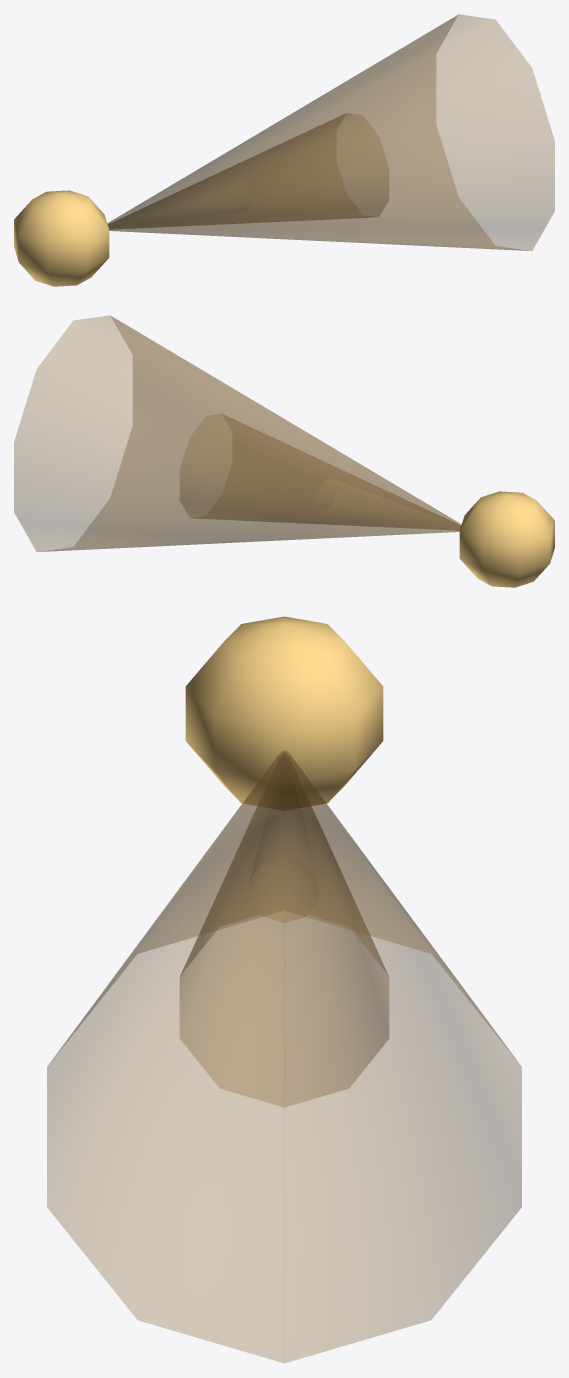
The model's file is rodfx-lighthouse.glb.
The picture shows the model from 3 angles, top to bottom: view 1: azimuth 30°, elevation 25°; view 2: azimuth 150°, elevation 25°; view 3: azimuth 270°, elevation 25°; orthographic projection. The views are drawn at different scales.
Parts seen in each view (by area): view 1: Beam, Lamp; view 2: Beam, Lamp; view 3: Beam, Lamp.
Part boxes in pixels (x1,y1,x2,y2): Beam: (107, 14, 554, 250); Lamp: (14, 190, 109, 286); Beam: (14, 315, 461, 551); Lamp: (459, 491, 554, 587); Beam: (47, 750, 521, 1363); Lamp: (185, 616, 383, 810).
Size of the model in its own units: 0.2373 by 0.1077 by 0.1024.
